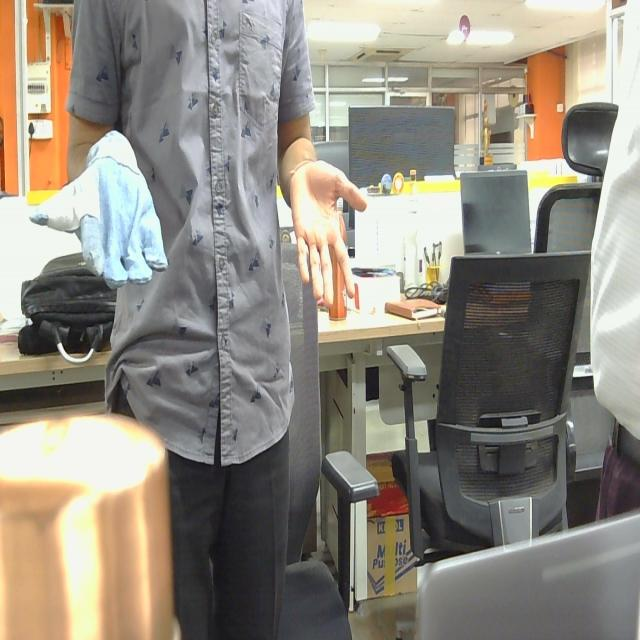Gloves-Detection: (30, 125, 170, 300)
